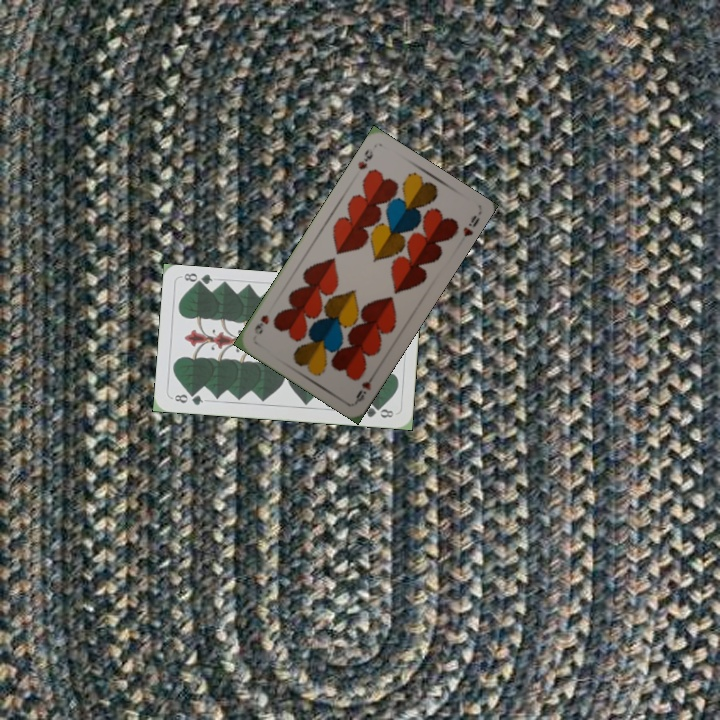G8: (170, 389, 206, 408)
H9: (352, 368, 379, 405), (353, 145, 376, 172)
